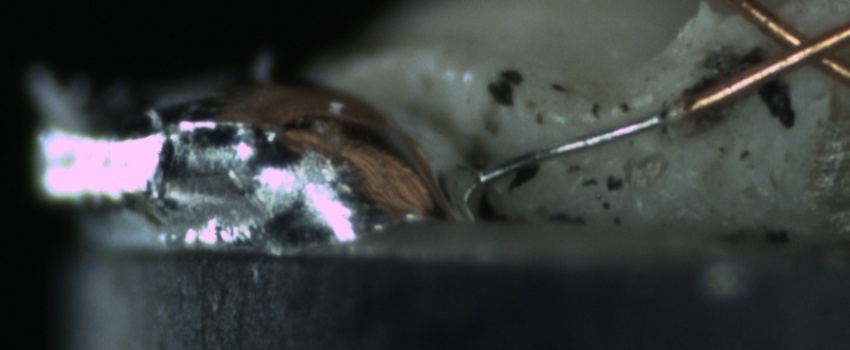CL: (726, 3, 850, 89)
TS: (480, 100, 680, 182)
TTCW: (474, 79, 724, 180)
